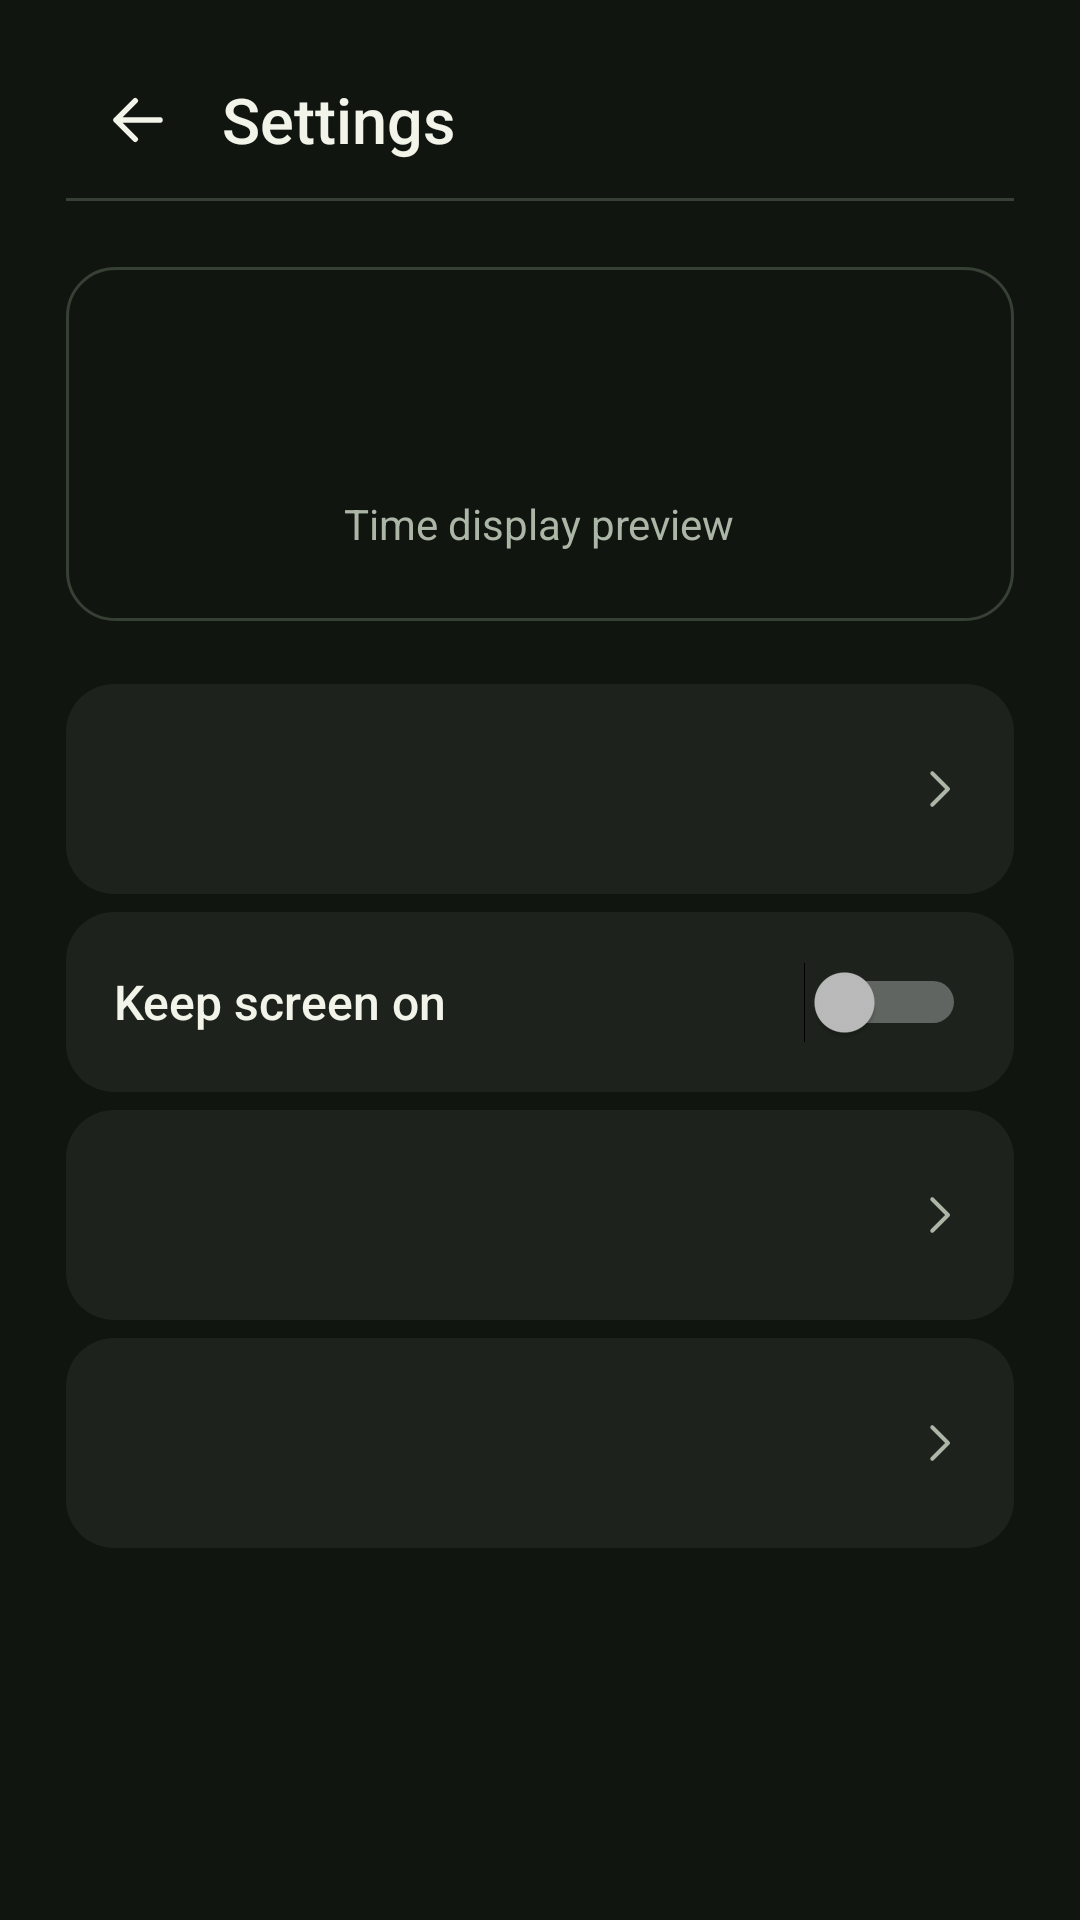

Where icons sit on this 1080*1920 app screen, as (x1, y1, x2, y2):
Back: (113, 97, 163, 143)
next: (930, 771, 950, 807), (930, 1197, 950, 1233), (930, 1425, 950, 1461)
